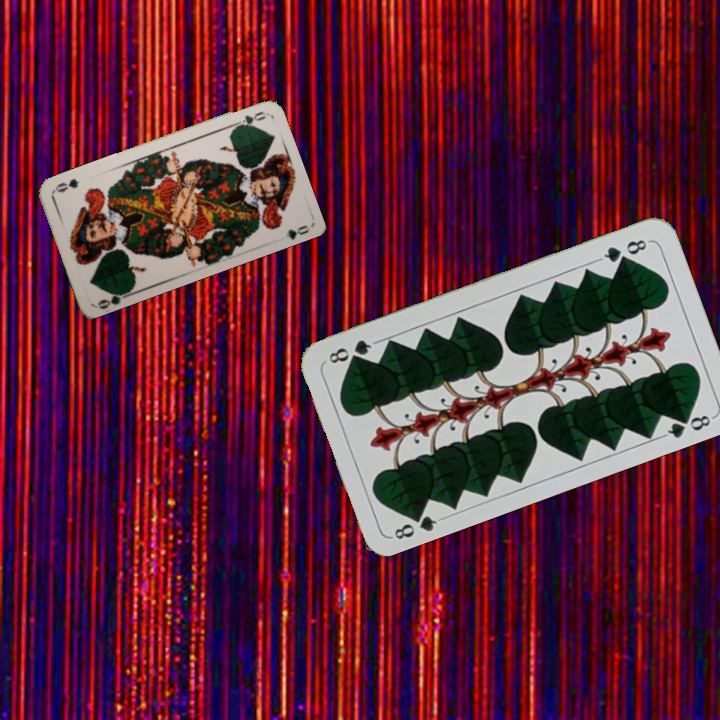G8: (388, 506, 445, 542), (595, 235, 652, 265)
GO: (228, 107, 268, 132), (93, 288, 133, 311)
